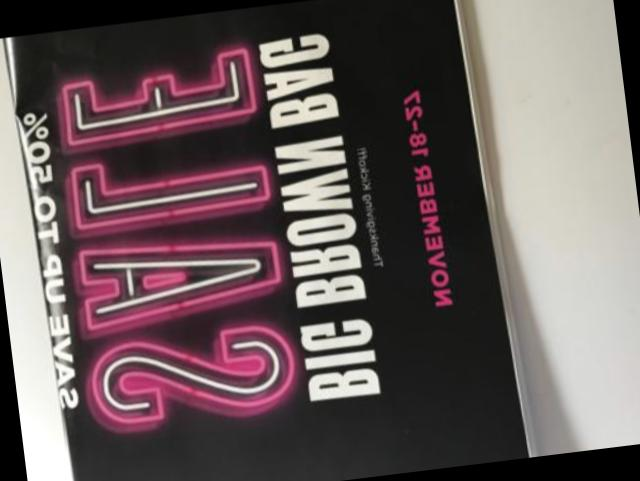cardboard paper: (5, 0, 525, 481)
